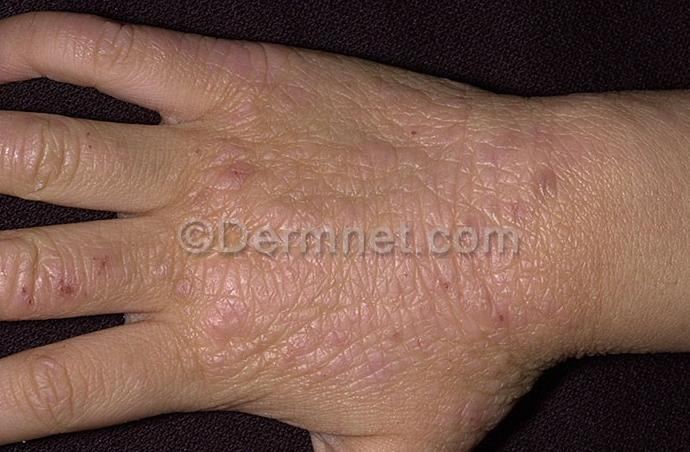exudacion 1: (14, 245, 114, 305)
liquenificacion 1: (178, 96, 570, 390)
